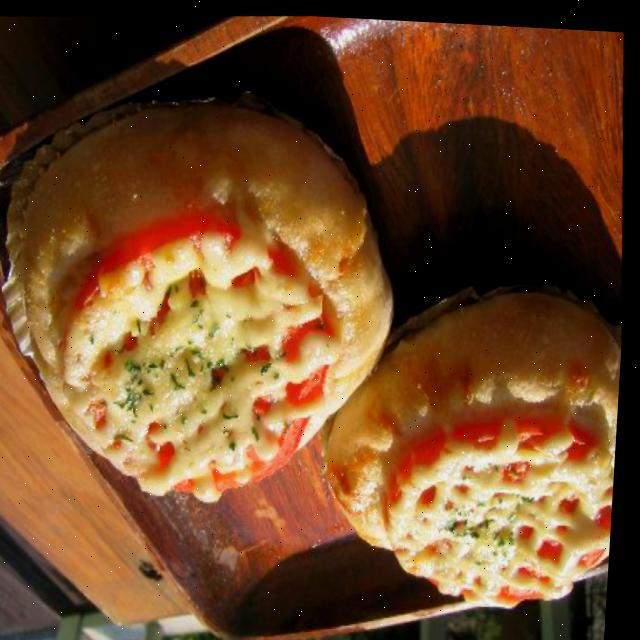三明治: (0, 46, 638, 640)
